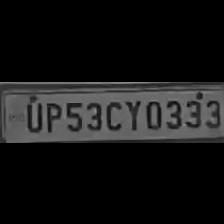0: (140, 96, 162, 130)
3: (83, 97, 103, 131), (182, 94, 202, 128), (202, 94, 222, 128), (164, 94, 182, 130)
5: (61, 97, 83, 132)
C: (103, 96, 123, 132)
P: (42, 98, 60, 132)
U: (20, 98, 42, 132)
Y: (123, 96, 141, 132)
